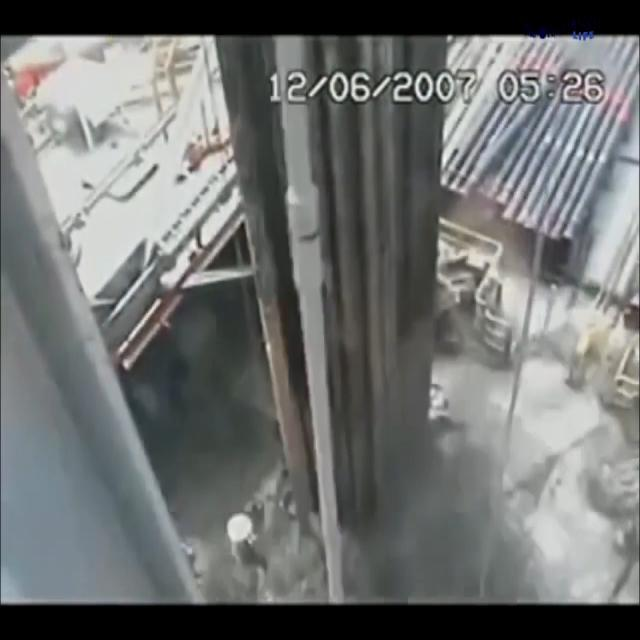spillage: (351, 358, 583, 609)
